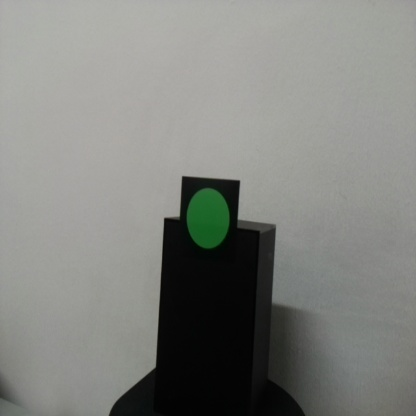id_5: (183, 176, 239, 267)
